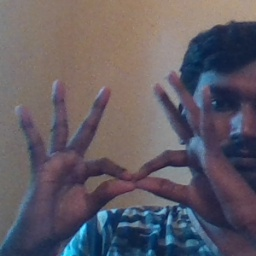B: (61, 120, 214, 222)
